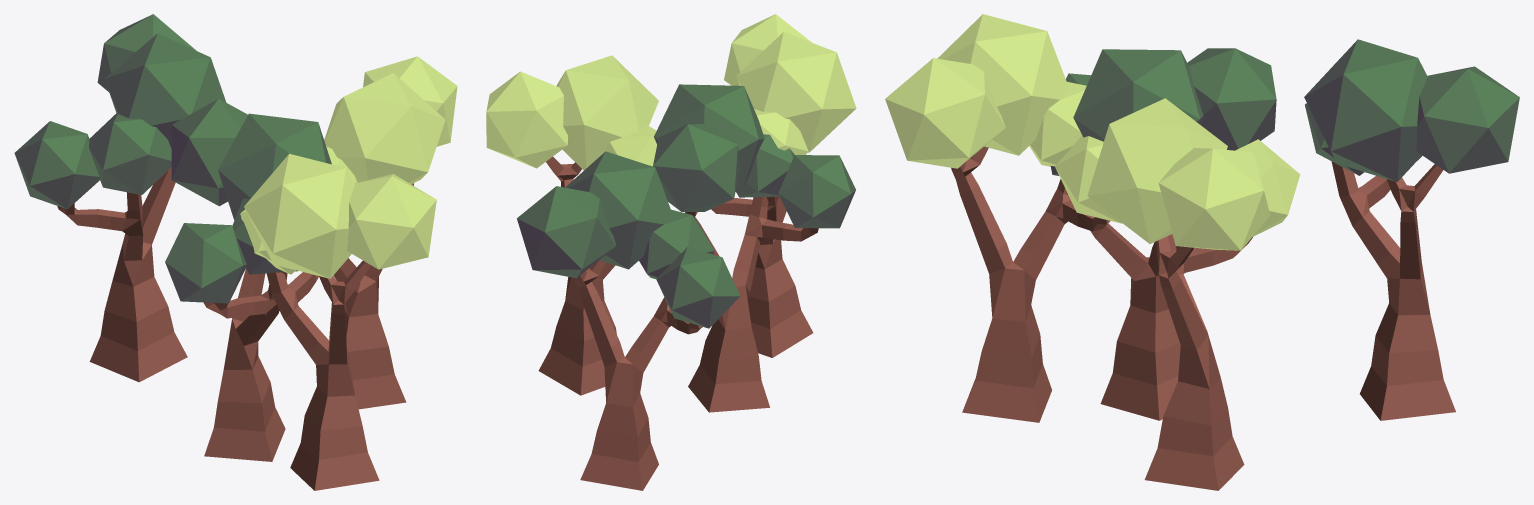
Rendered from treetree1.gltf.
3 views of the same model, side by side, from view 1: azimuth 30°, elevation 25°; view 2: azimuth 150°, elevation 25°; view 3: azimuth 270°, elevation 25° (orthographic). The views are drawn at different scales.
Visible parts, largest first — view 1: Icosphere.004, Icosphere.002, Cube.001, Cube.002, Icosphere.005, Icosphere.008, Icosphere.010, Icosphere.009, Icosphere.007, Icosphere.001, Icosphere.006, Icosphere.003; view 2: Icosphere.002, Icosphere.004, Cube.001, Cube.002, Icosphere.006, Icosphere.005, Icosphere.009, Icosphere.008, Icosphere.010, Icosphere.007, Icosphere.001, Icosphere.003; view 3: Icosphere.004, Icosphere.002, Cube.001, Icosphere.005, Cube.002, Icosphere.006, Icosphere.008, Icosphere.009, Icosphere.001.
Part boxes in pixels (x1=…): Icosphere.004: x1=240, y1=153, x2=436, y2=490; Icosphere.002: x1=324, y1=56, x2=457, y2=409; Cube.001: x1=57, y1=167, x2=187, y2=382; Cube.002: x1=203, y1=268, x2=287, y2=461; Icosphere.005: x1=104, y1=33, x2=226, y2=148; Icosphere.008: x1=218, y1=113, x2=331, y2=219; Icosphere.010: x1=165, y1=223, x2=246, y2=303; Icosphere.009: x1=171, y1=98, x2=247, y2=206; Icosphere.007: x1=14, y1=121, x2=99, y2=209; Icosphere.001: x1=89, y1=113, x2=171, y2=194; Icosphere.006: x1=97, y1=14, x2=196, y2=92; Icosphere.003: x1=232, y1=198, x2=297, y2=274; Icosphere.002: x1=486, y1=55, x2=658, y2=395; Icosphere.004: x1=711, y1=14, x2=856, y2=357; Cube.001: x1=574, y1=260, x2=702, y2=490; Cube.002: x1=685, y1=197, x2=818, y2=412; Icosphere.006: x1=517, y1=186, x2=616, y2=278; Icosphere.005: x1=565, y1=151, x2=672, y2=269; Icosphere.009: x1=653, y1=124, x2=739, y2=211; Icosphere.008: x1=654, y1=84, x2=764, y2=191; Icosphere.010: x1=778, y1=155, x2=855, y2=228; Icosphere.007: x1=656, y1=247, x2=740, y2=328; Icosphere.001: x1=639, y1=209, x2=714, y2=279; Icosphere.003: x1=736, y1=134, x2=794, y2=197; Icosphere.004: x1=885, y1=14, x2=1121, y2=422; Icosphere.002: x1=1087, y1=98, x2=1300, y2=490; Cube.001: x1=1331, y1=161, x2=1455, y2=420; Icosphere.005: x1=1304, y1=39, x2=1427, y2=181; Cube.002: x1=1090, y1=223, x2=1180, y2=420; Icosphere.006: x1=1416, y1=66, x2=1519, y2=173; Icosphere.008: x1=1073, y1=49, x2=1203, y2=141; Icosphere.009: x1=1187, y1=48, x2=1276, y2=150; Icosphere.001: x1=1305, y1=103, x2=1364, y2=175.
Bounding box in the file's own units: 6.34 × 5.74 × 8.87.
